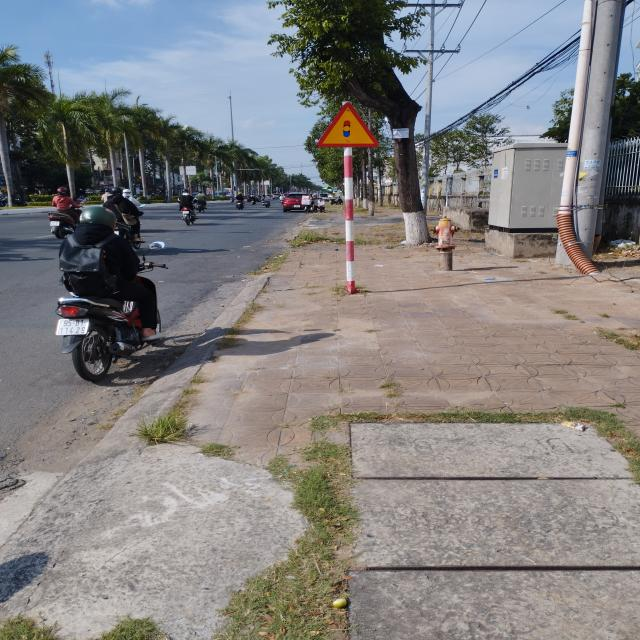Duong_Co_Go_Giam_Toc: (316, 102, 378, 147)
